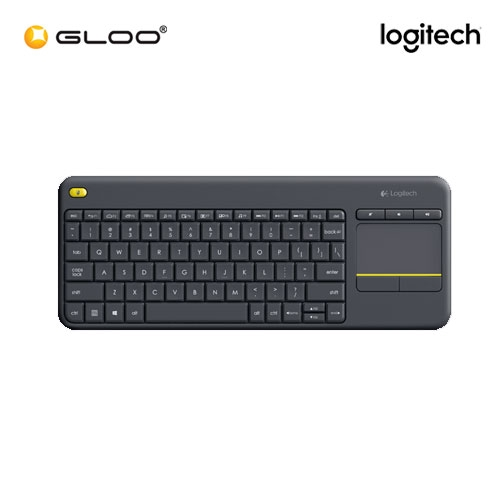logitech-keyboard-k400: (56, 176, 452, 333)
